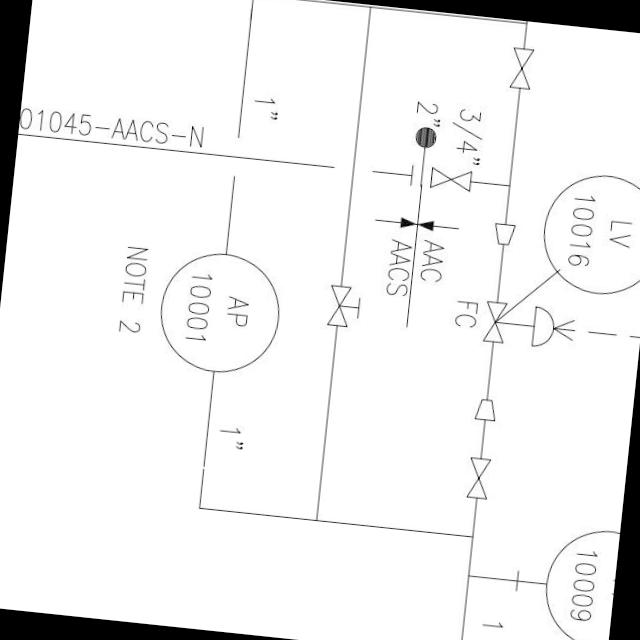FC: (478, 296, 560, 354)
GV: (505, 40, 540, 94), (463, 452, 497, 505), (424, 160, 477, 193)
HV: (323, 280, 368, 332)
SP: (488, 216, 522, 249), (472, 394, 501, 426)
